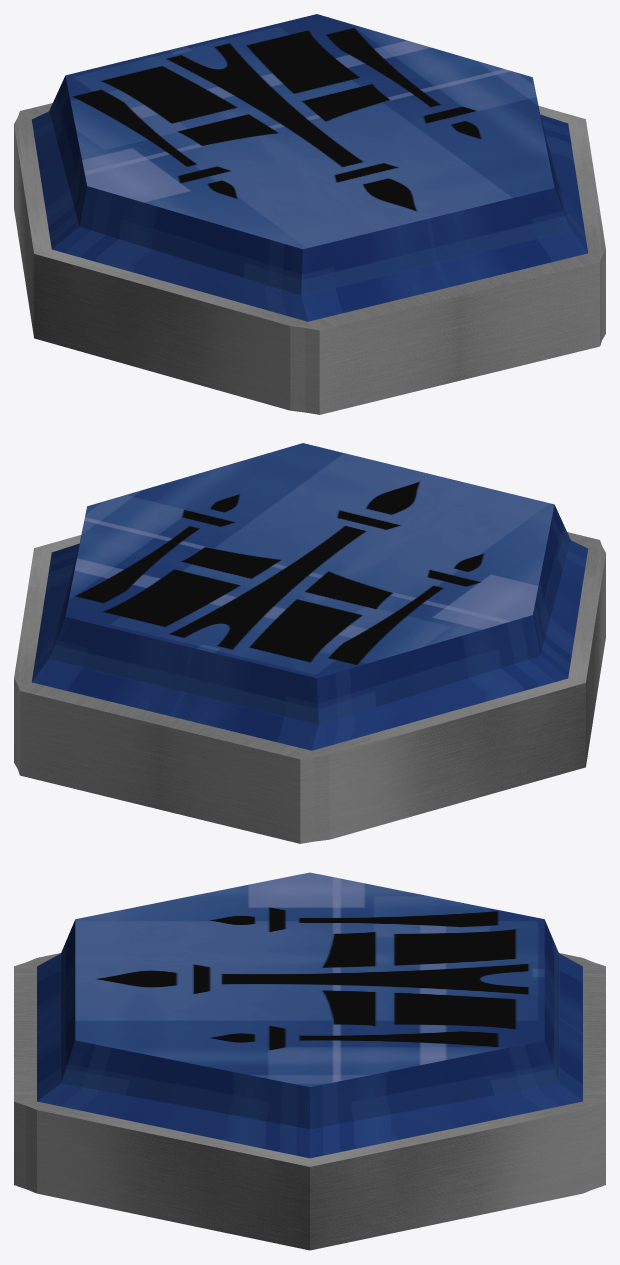
Rendered from HEXv2.fbx.
The picture shows the model from 3 angles, top to bottom: view 1: azimuth 30°, elevation 25°; view 2: azimuth 150°, elevation 25°; view 3: azimuth 270°, elevation 25°; orthographic projection.
Parts seen in each view (by area): view 1: Cube.002; view 2: Cube.002; view 3: Cube.002.
Part boxes in pixels (<box>): Cube.002: <box>14,14,605,414</box>; Cube.002: <box>14,443,605,843</box>; Cube.002: <box>14,872,605,1250</box>.
Size of the model in its own units: 253 by 61.2 by 238.
